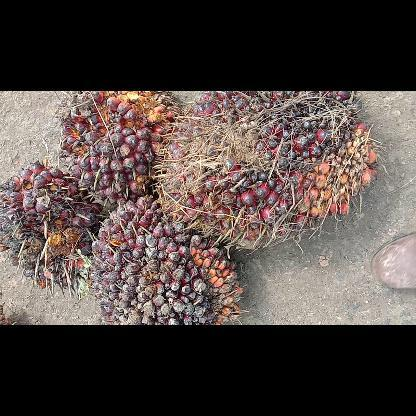Kurang masak: (150, 91, 382, 255), (85, 192, 250, 324)
TBS masak: (57, 91, 183, 207), (0, 157, 104, 289)
